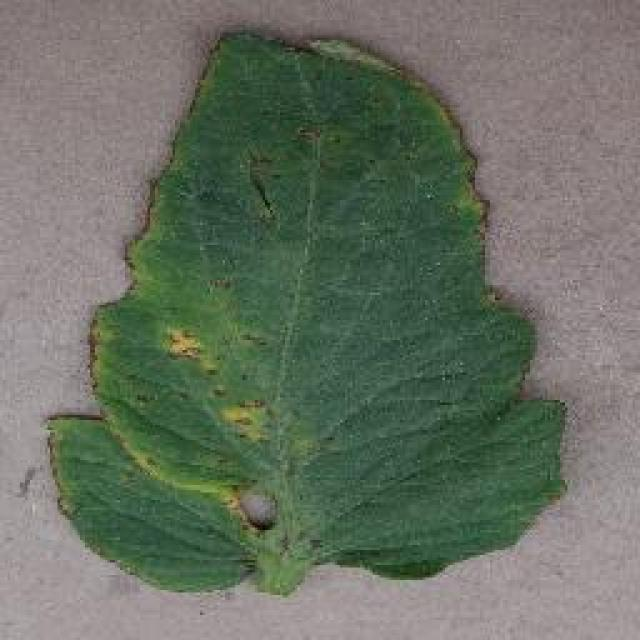Tomato___Bacterial_spot: (45, 27, 577, 598)
